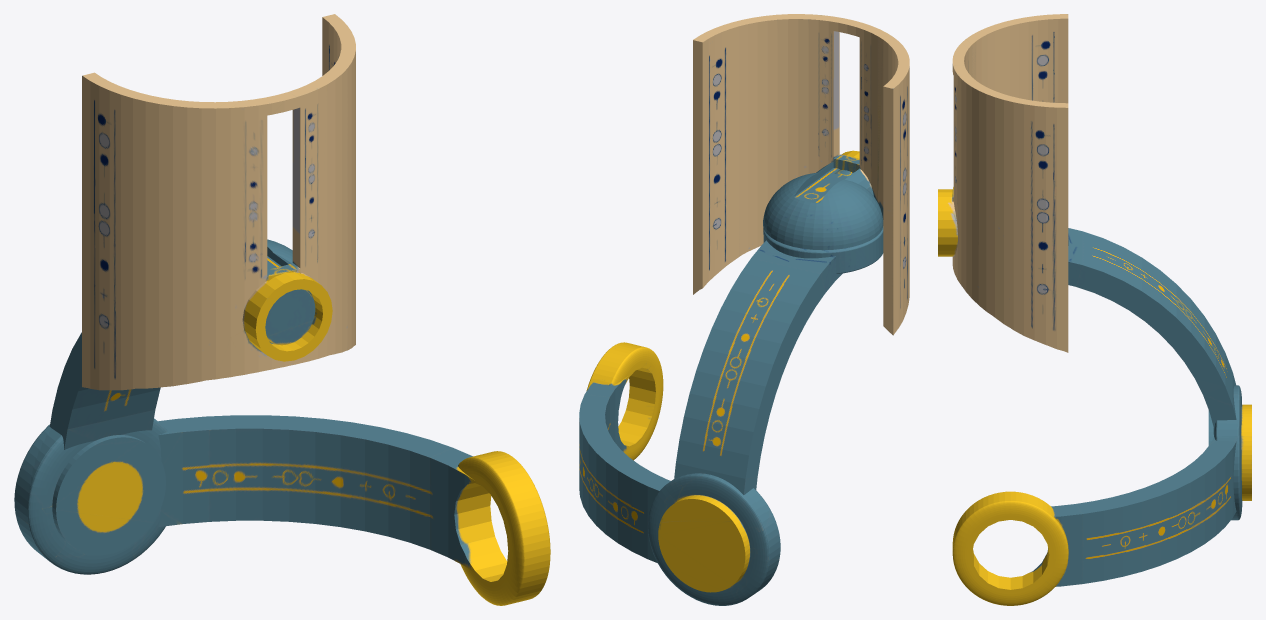
The model's file is gol.fbx.
The picture shows the model from 3 angles, left to right: view 1: azimuth 30°, elevation 25°; view 2: azimuth 150°, elevation 25°; view 3: azimuth 270°, elevation 25°; orthographic projection. The views are drawn at different scales.
Visible parts, largest first — view 1: node_id30; view 2: node_id30; view 3: node_id30.
Boxes of the visible parts, x1,y1,x2,y2 form: node_id30: (14, 14, 550, 605); node_id30: (579, 14, 909, 605); node_id30: (938, 14, 1251, 605).
Bounding box in the file's own units: 0.512 × 0.7396 × 0.4622.
1 material, 1 textured.
